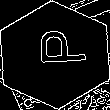P_W: (25, 35, 85, 75)
